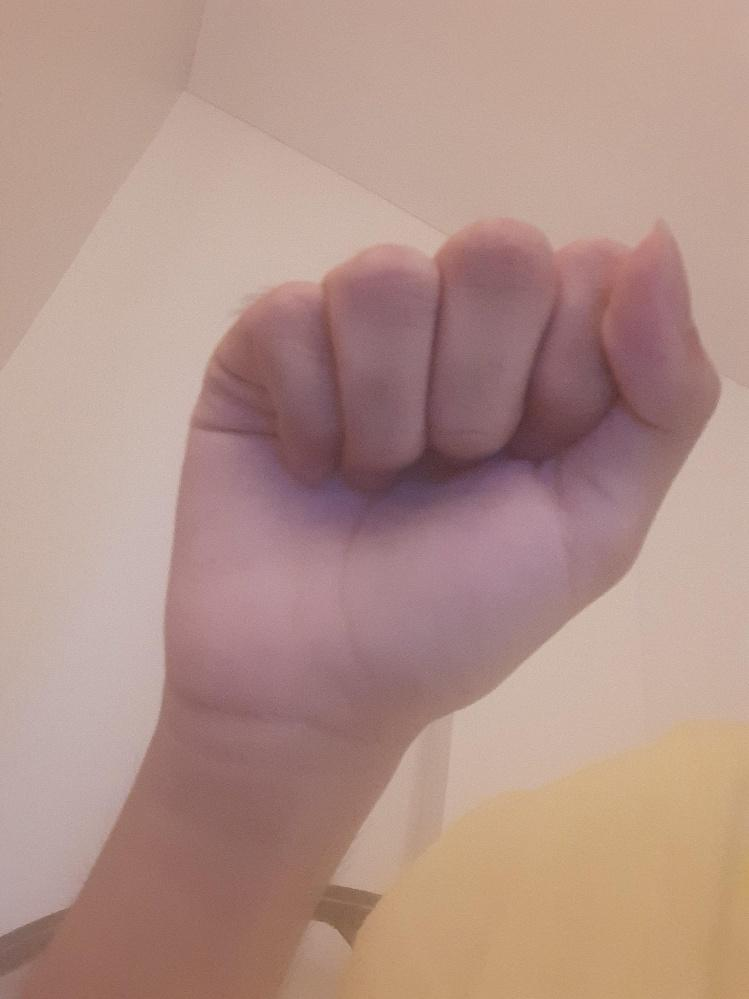a: (163, 221, 720, 707)
